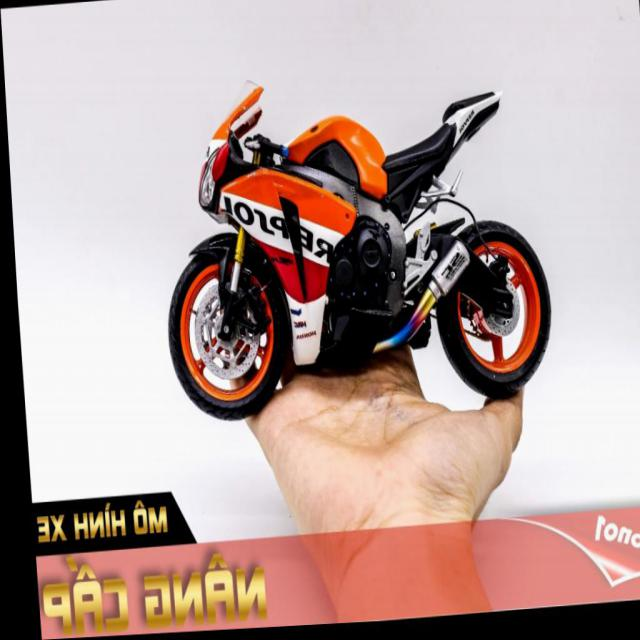HRC RCV 213: (147, 62, 552, 426)
